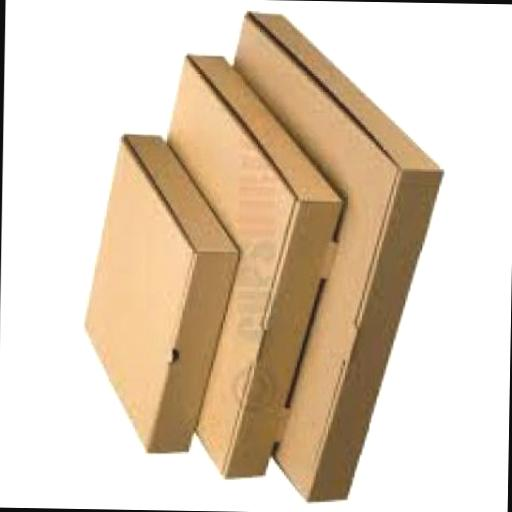cardboard: (221, 13, 444, 507), (156, 55, 345, 484), (78, 136, 240, 458)
